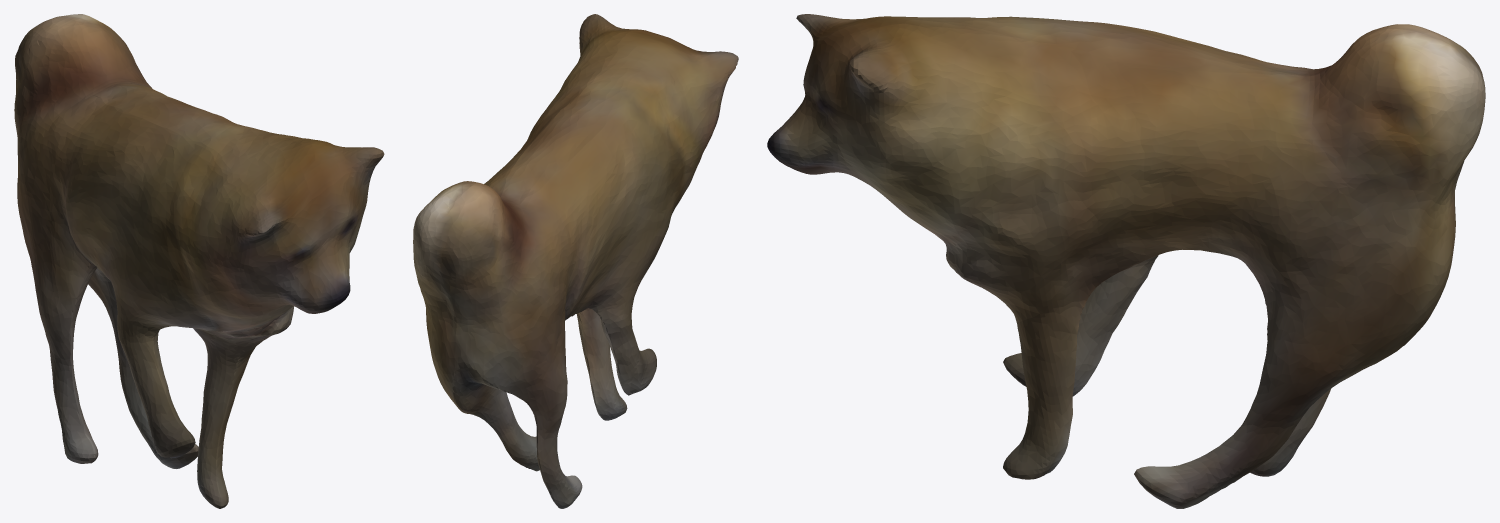
The model's file is shiba-haru-1002-mesh-00020.obj.
The picture shows the model from 3 angles, left to right: view 1: azimuth 30°, elevation 25°; view 2: azimuth 150°, elevation 25°; view 3: azimuth 270°, elevation 25°; orthographic projection. The views are drawn at different scales.
Size of the model in its own units: 0.0312 by 0.074 by 0.0964.
